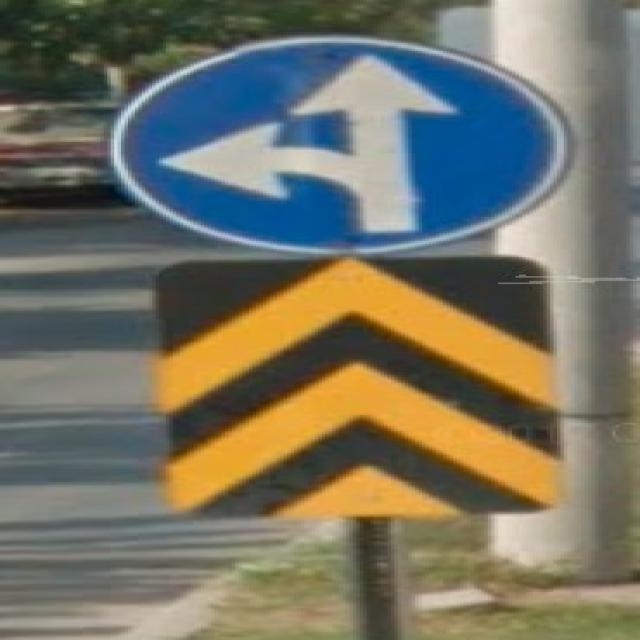Straight or Left: (105, 38, 568, 255)
